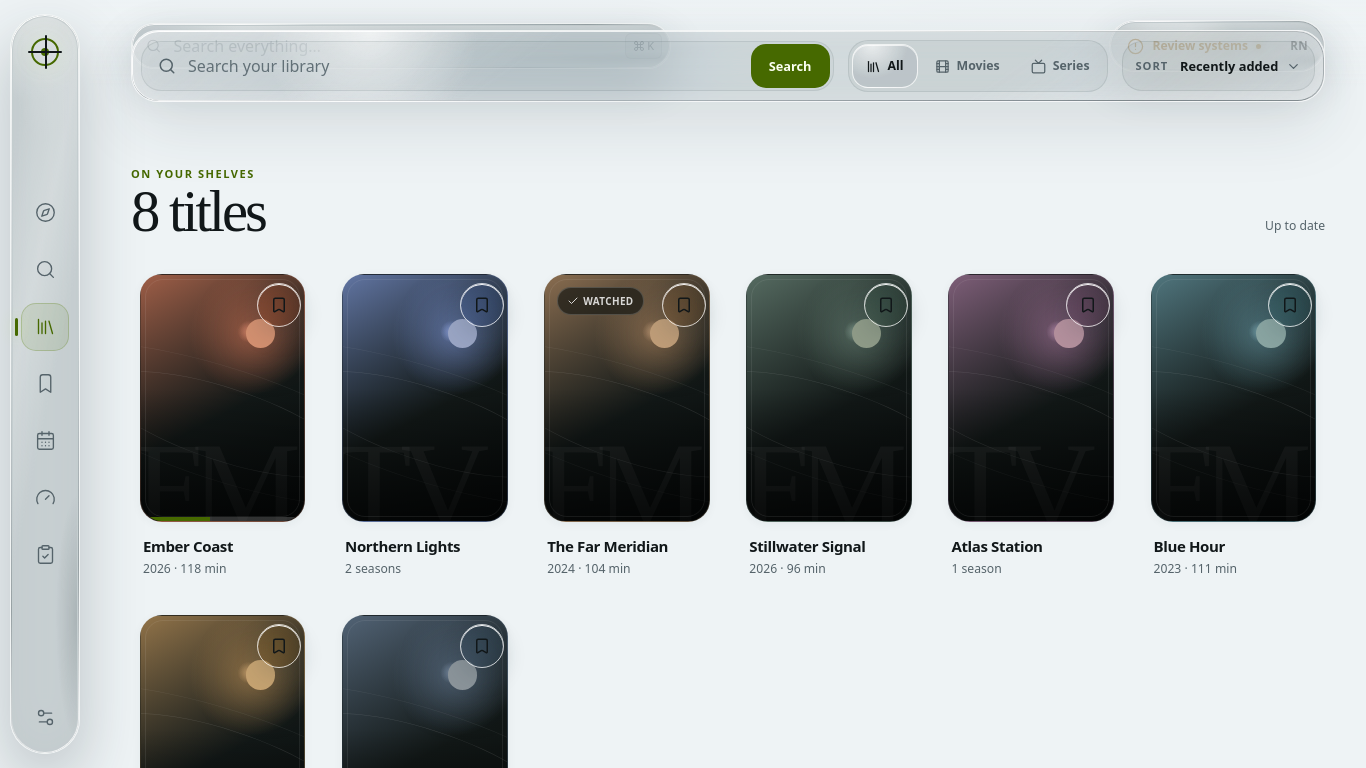
it: MediaLibrary › prepares an admin-only original download from the title detail without exposing Jellyfin
(page scrolled)
Click the button with aria-label "View details for Ember Coast" at {"x": 223, "y": 426}, box [134,272,312,580]
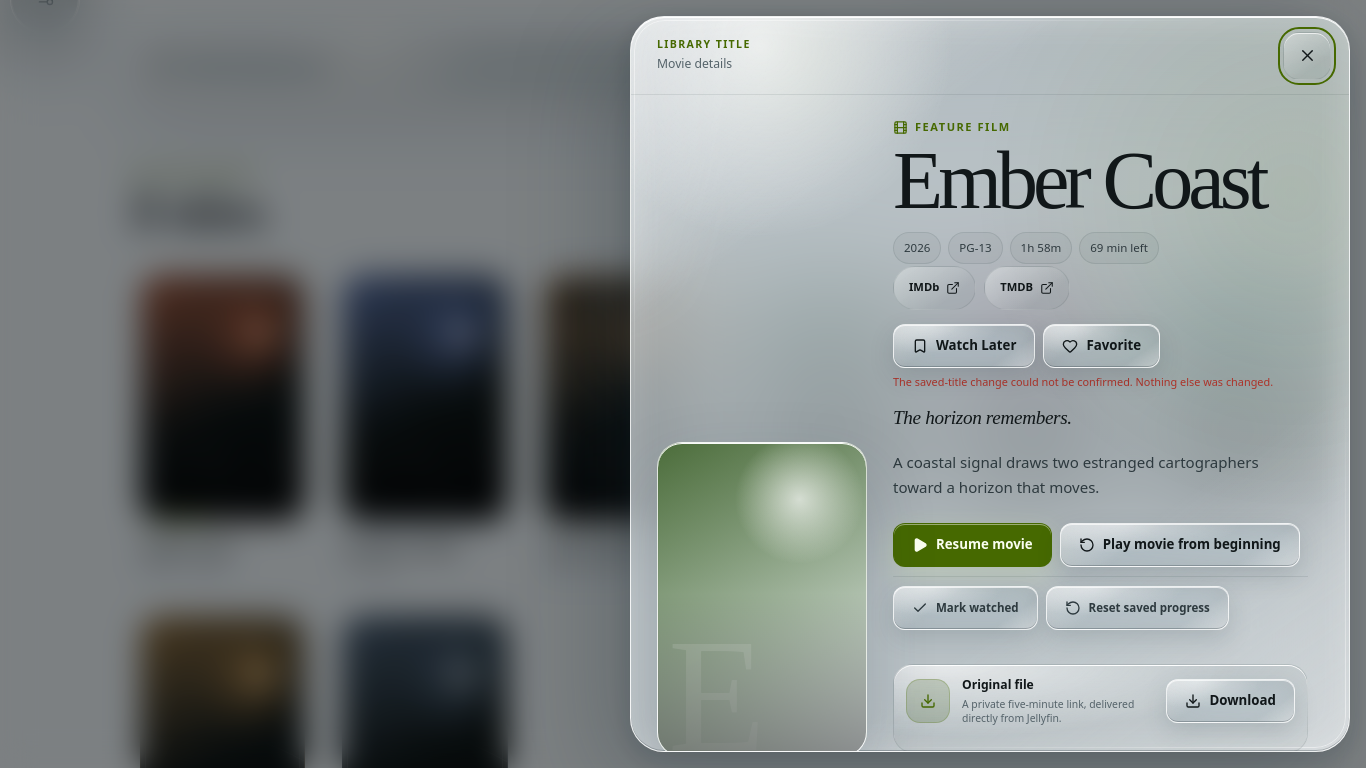
Click the button "Download" at {"x": 1231, "y": 701}, box [1166,679,1295,723]
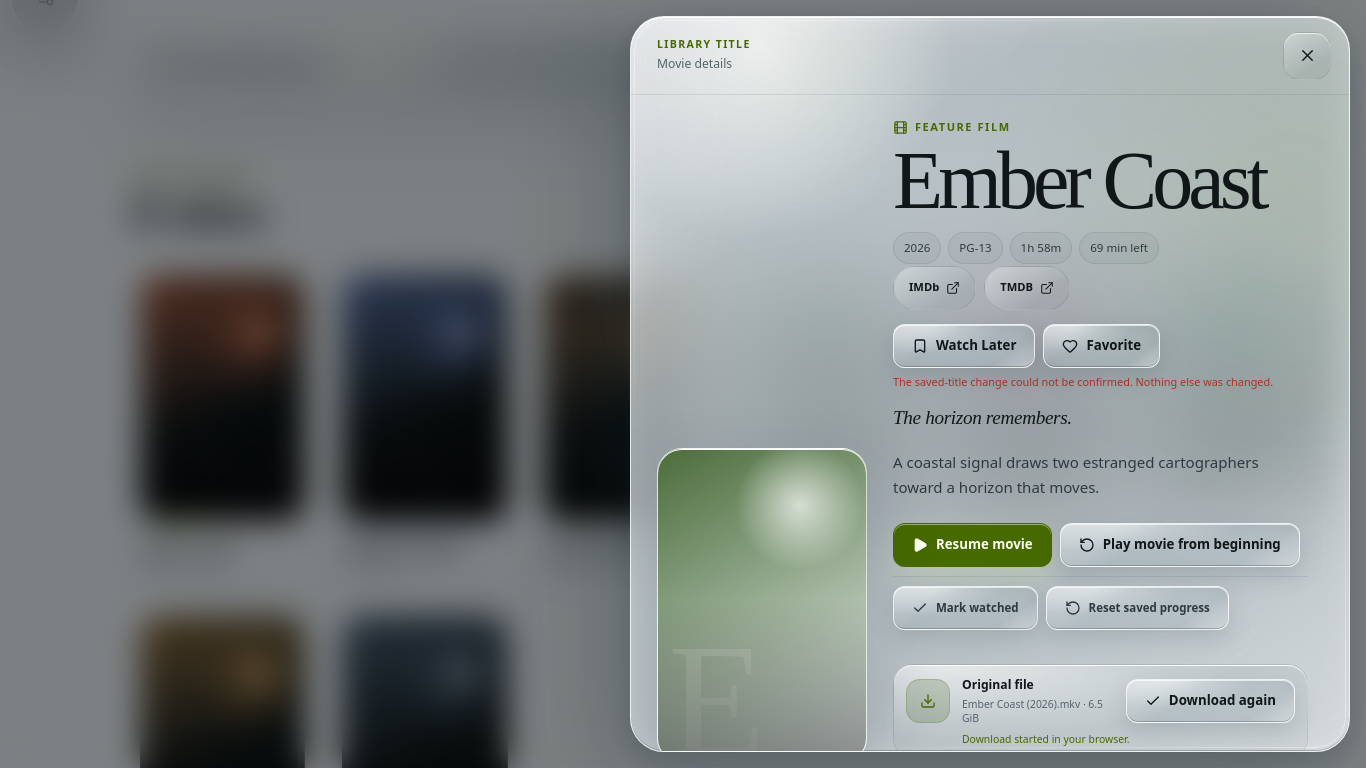
Expected: the text "Download started in your browser." is shown, [962,732,1130,746]
Expected: the text "Ember Coast (2026).mkv · 6.5 GiB" is shown, [962,697,1114,726]
